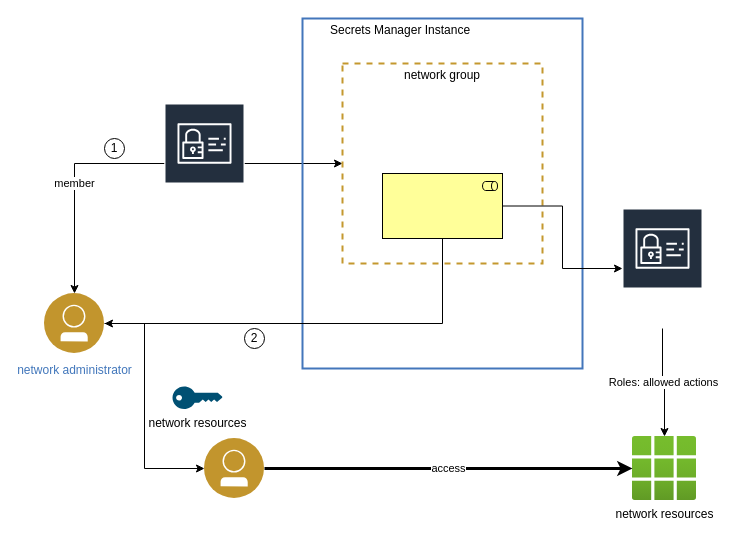
Image size: 735x539. Some labels were removed from this diagram. The shapes that lost their labels are listed below. From the top down, each one's centre as x and y in pixels, then its label:
[204,163]: network admins access group
[442,205]: network user secret
[662,268]: network access group
[234,468]: network user
